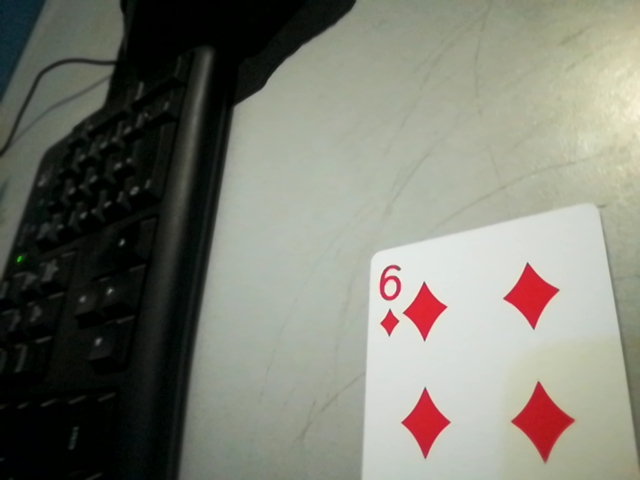fk 6: (365, 258, 413, 341)
